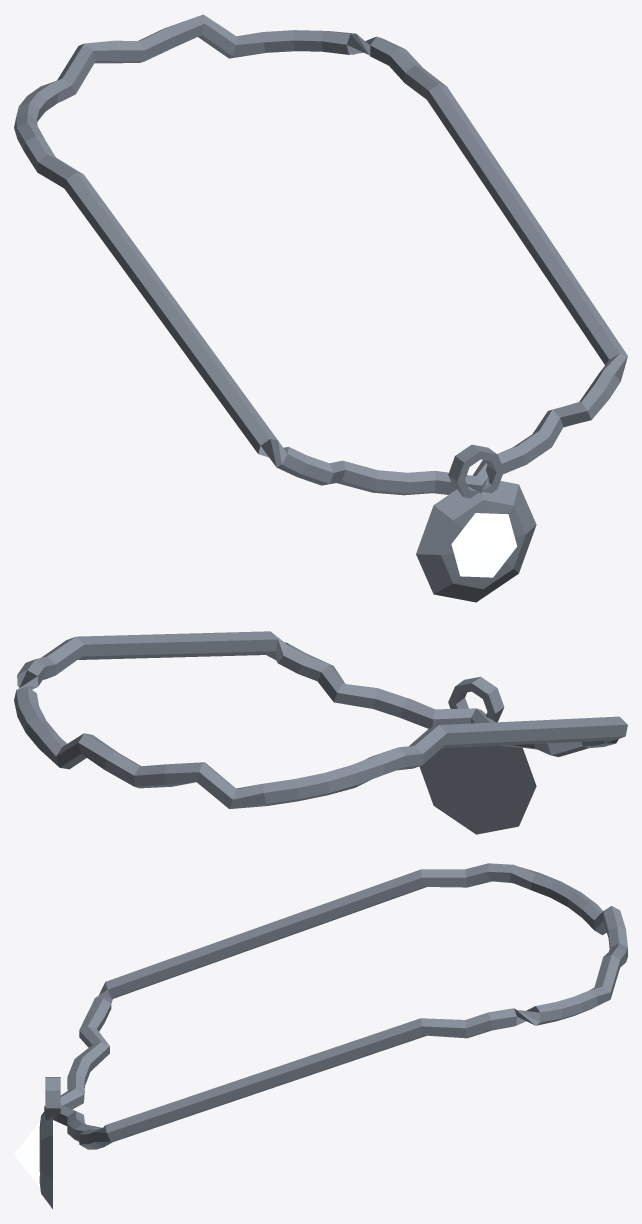
Rendered from armor_amulet_uncommon_human.glb.
3 renders of one model, top to bottom at view 1: azimuth 30°, elevation 25°; view 2: azimuth 150°, elevation 25°; view 3: azimuth 270°, elevation 25°, orthographic. The views are drawn at different scales.
Visible parts, largest first — view 1: armor_amulet_uncommon_human__spine_03; view 2: armor_amulet_uncommon_human__spine_03; view 3: armor_amulet_uncommon_human__spine_03.
Part boxes in pixels (x1,y1,x2,y2): armor_amulet_uncommon_human__spine_03: (14,14,627,602); armor_amulet_uncommon_human__spine_03: (14,631,627,834); armor_amulet_uncommon_human__spine_03: (14,863,627,1208).
Size of the model in its own units: 22.04 by 18.04 by 36.18.
